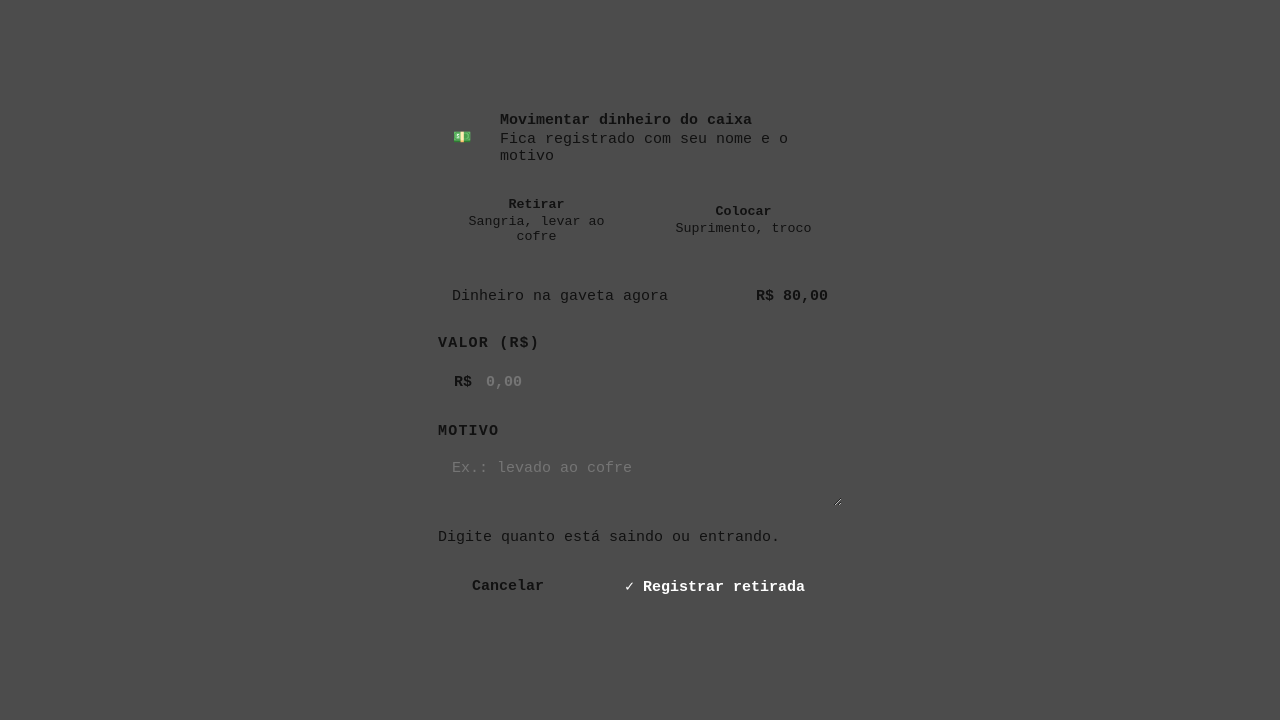
Test: MovimentoCaixaModal, o botão diz por que não dá para confirmar › sangria exatamente igual ao disponível passa, deixar a gaveta em zero é legítimo
Type "80" into the number field with class "movimento-caixa__input" at [640, 382], box [438, 360, 842, 404]
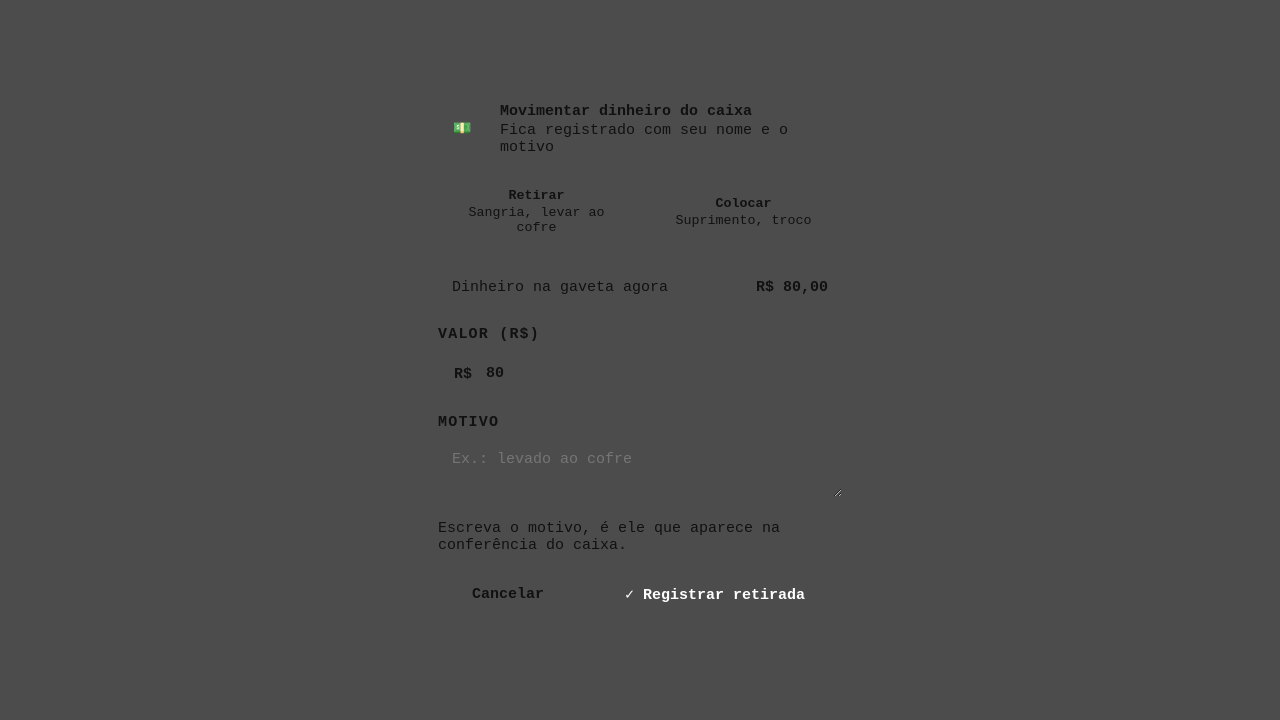
Type "levado ao cofre" into the text box with class "movimento-caixa__textarea" at [640, 468], box [438, 439, 842, 497]
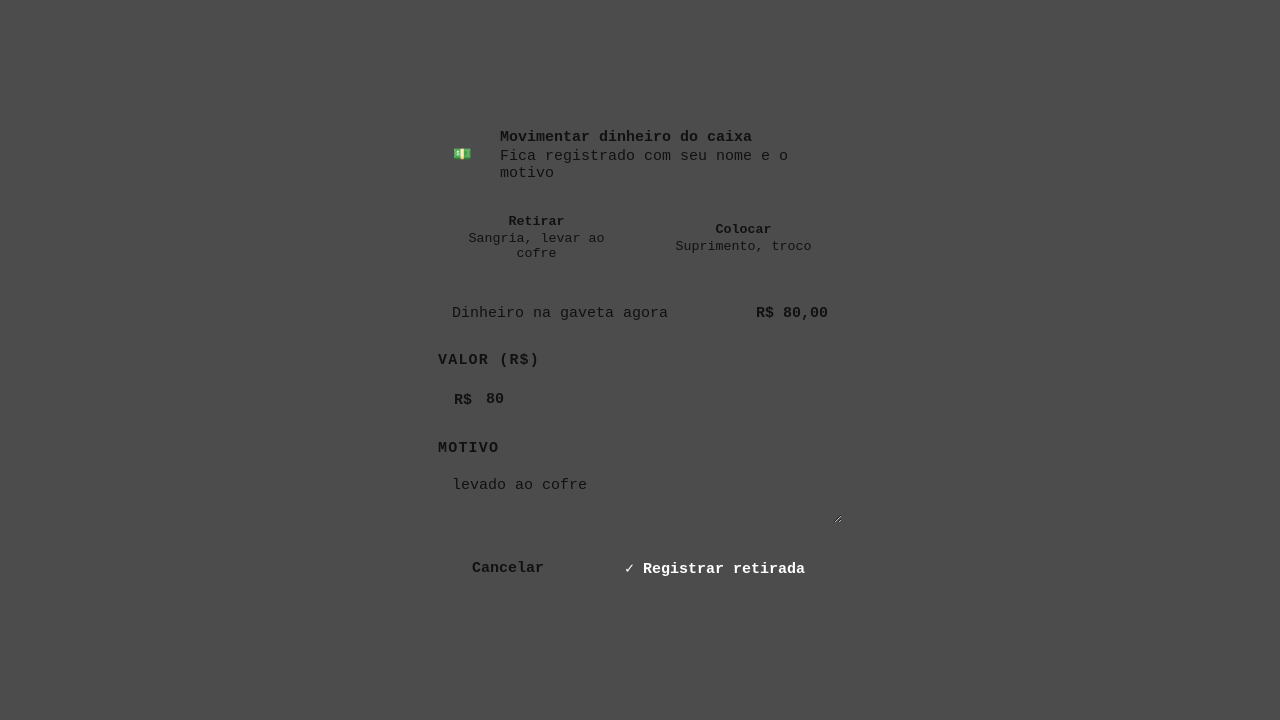
expect the button with class "movimento-caixa__botao-confirmar" is enabled: met, box [588, 546, 842, 591]
